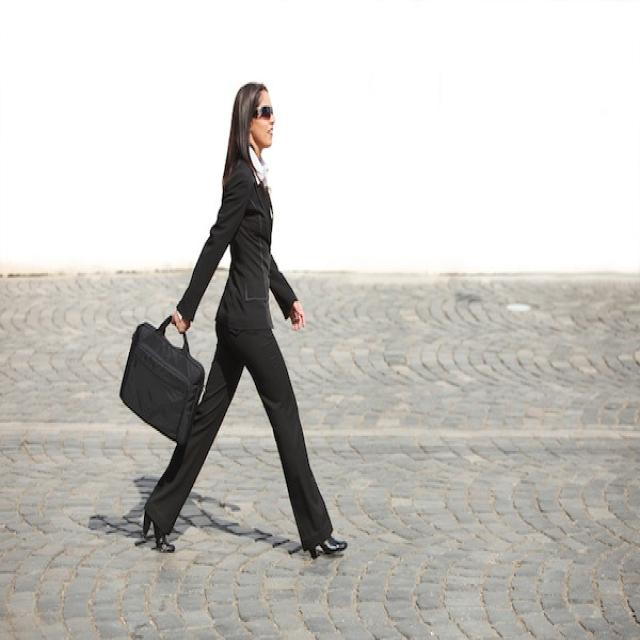Person: (119, 80, 348, 558)
